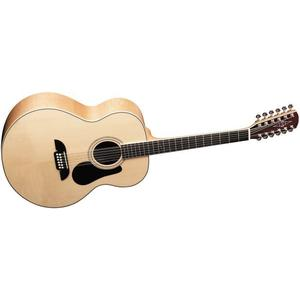guitar: (1, 94, 299, 209)
